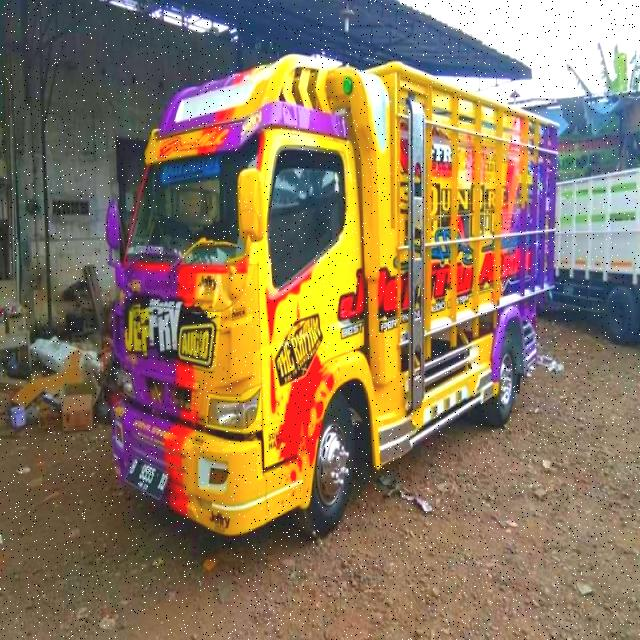truck: (106, 57, 556, 540)
